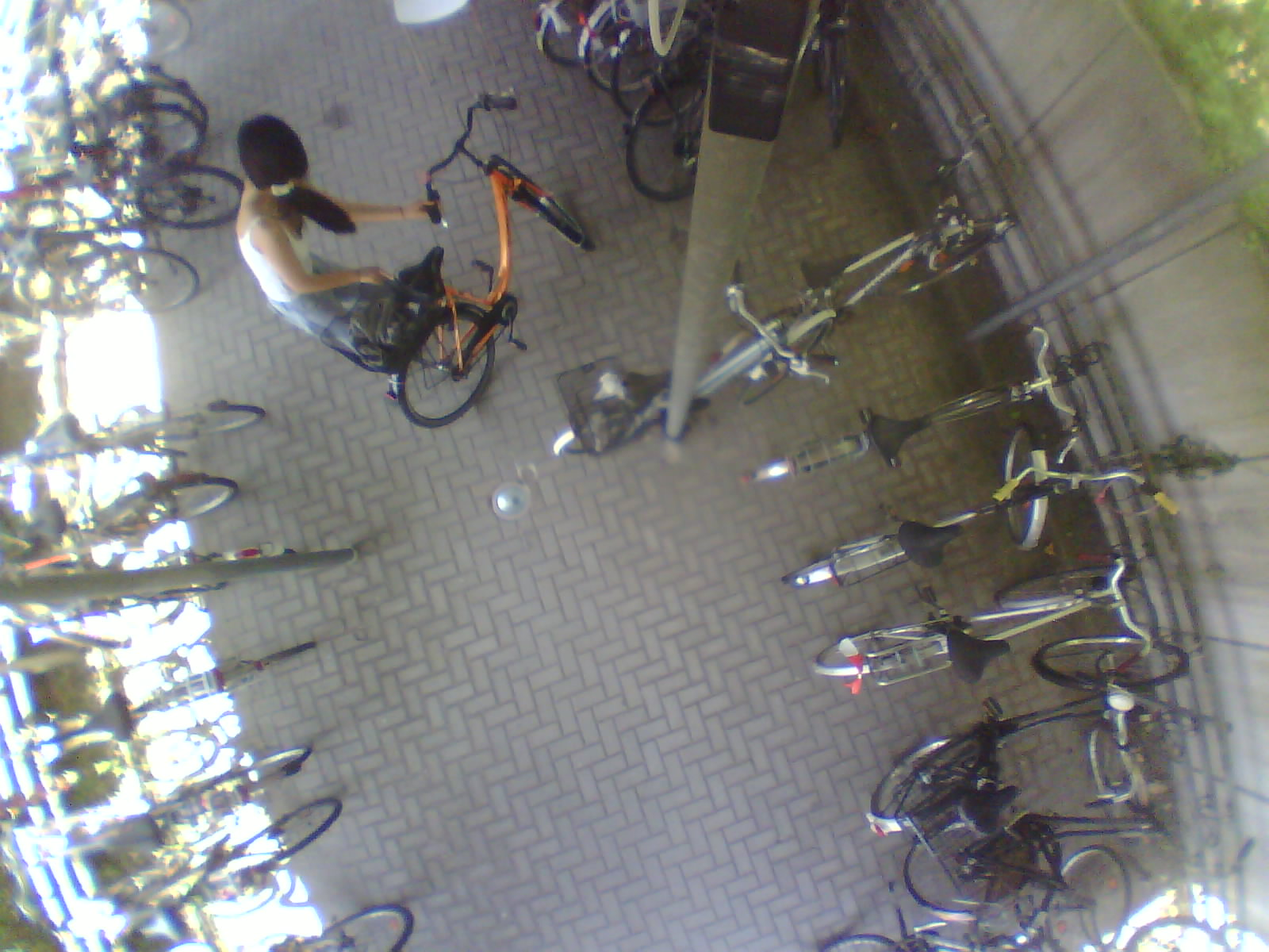bicylce: (360, 147, 588, 433), (864, 641, 1188, 829), (726, 208, 1000, 396), (545, 283, 814, 467), (778, 422, 1057, 597), (630, 1, 851, 201), (743, 355, 1068, 490), (32, 630, 317, 773), (96, 778, 332, 944), (811, 562, 1135, 678), (48, 735, 303, 868), (0, 368, 261, 489), (9, 462, 238, 569), (21, 544, 297, 623), (2, 163, 243, 234), (0, 241, 199, 322)
saddle: (5, 401, 96, 460), (68, 692, 134, 744), (959, 782, 1020, 836), (948, 626, 1005, 683), (899, 512, 958, 565), (21, 119, 90, 162), (401, 245, 449, 306), (132, 902, 190, 947), (869, 409, 924, 453), (103, 813, 159, 854), (804, 251, 860, 291), (620, 370, 677, 409), (17, 499, 69, 539), (2, 235, 59, 270)
